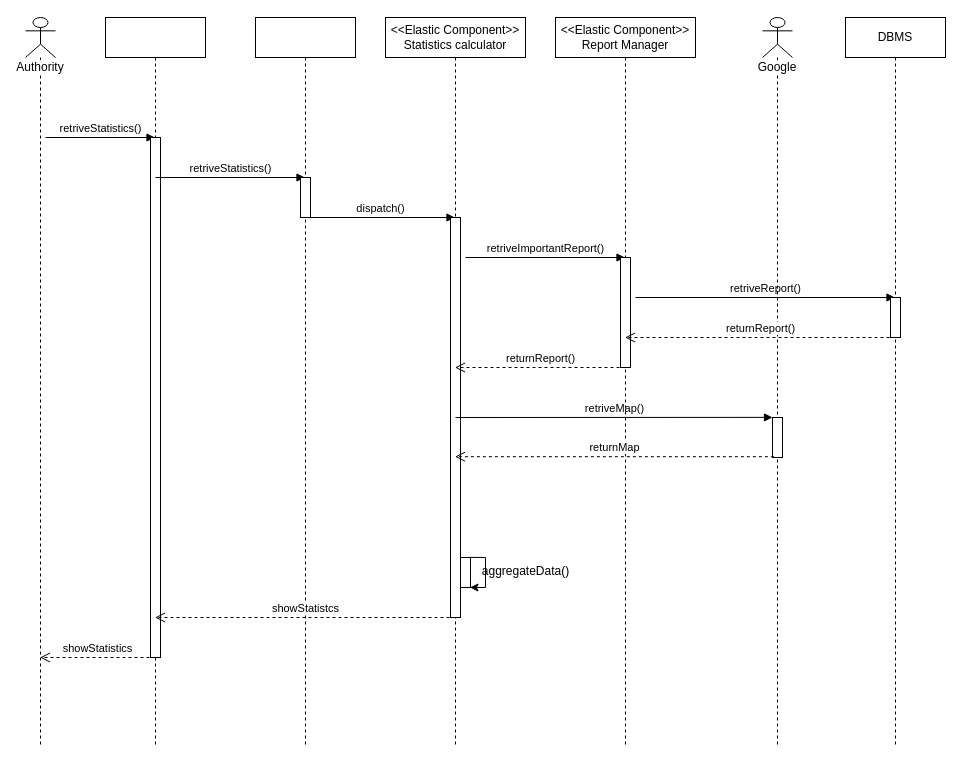
The diagram is 963 pixels wide and 765 high, and some of its shapes have lost their labels. Each missing label, with the box of its shape:
Mobile App: (104, 16, 206, 748)
Orchestrator: (254, 16, 356, 748)
